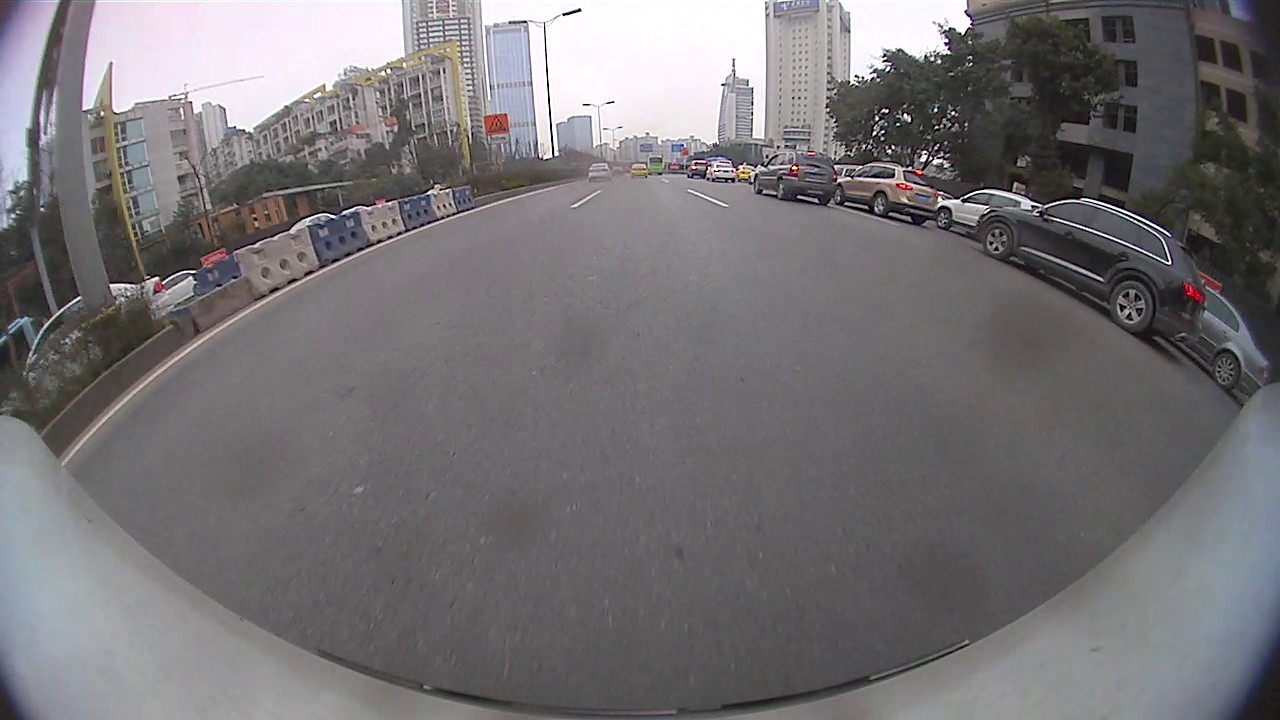car: (976, 196, 1204, 340), (1, 283, 143, 417), (1187, 288, 1269, 395), (837, 162, 938, 225), (938, 188, 1043, 233), (753, 152, 838, 204), (705, 161, 738, 182), (588, 163, 613, 182), (938, 192, 955, 205)
front: (980, 220, 1014, 261), (936, 209, 954, 234), (833, 186, 846, 209)
rear: (1111, 279, 1156, 333), (1209, 348, 1242, 390), (870, 193, 891, 221), (774, 176, 791, 202)
